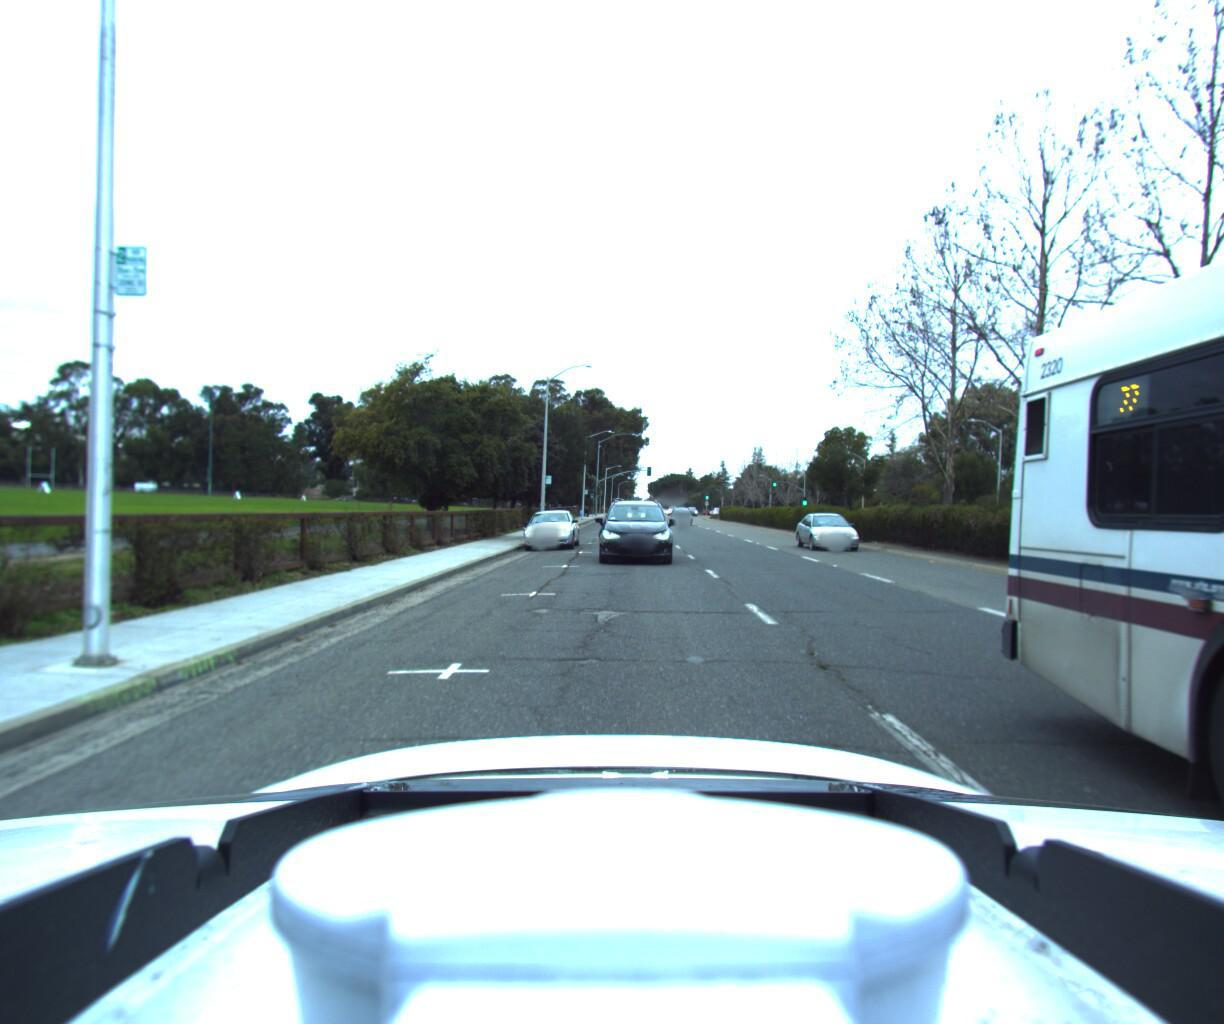car: (595, 499, 669, 567), (798, 513, 877, 555), (516, 507, 576, 551)
